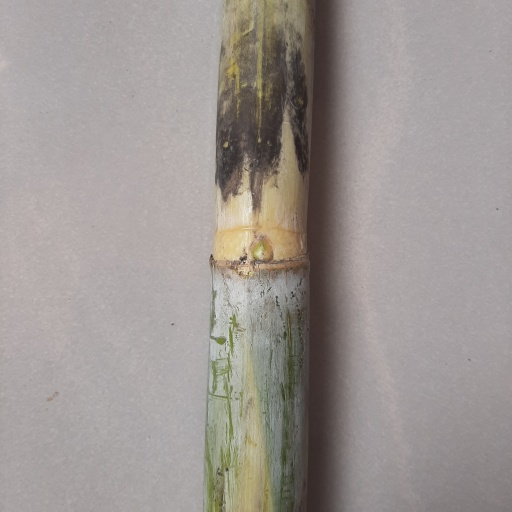Bud: (249, 230, 274, 263)
